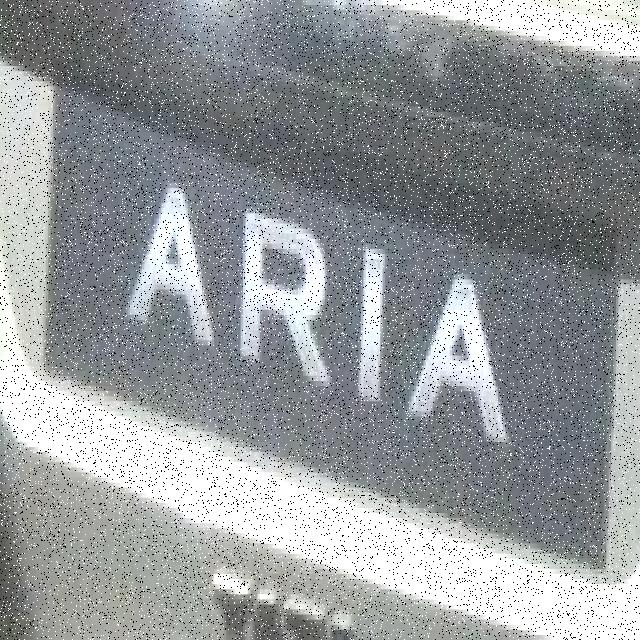licenseplate: (20, 36, 632, 610)
